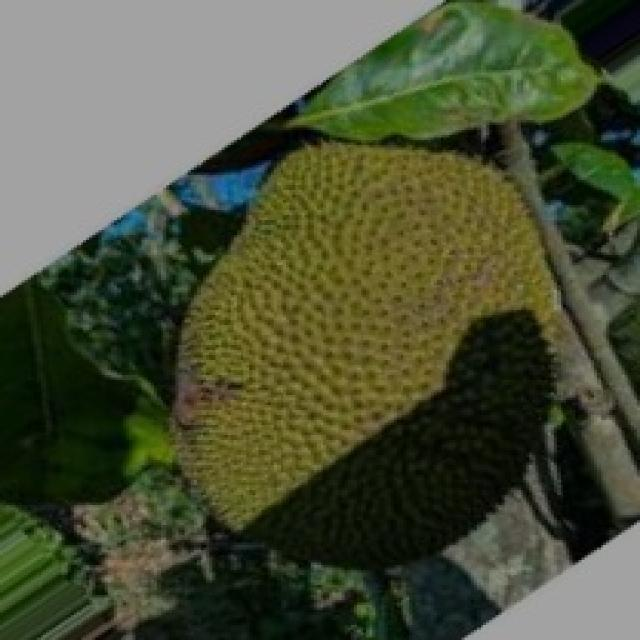Fruit: (163, 80, 631, 492)
